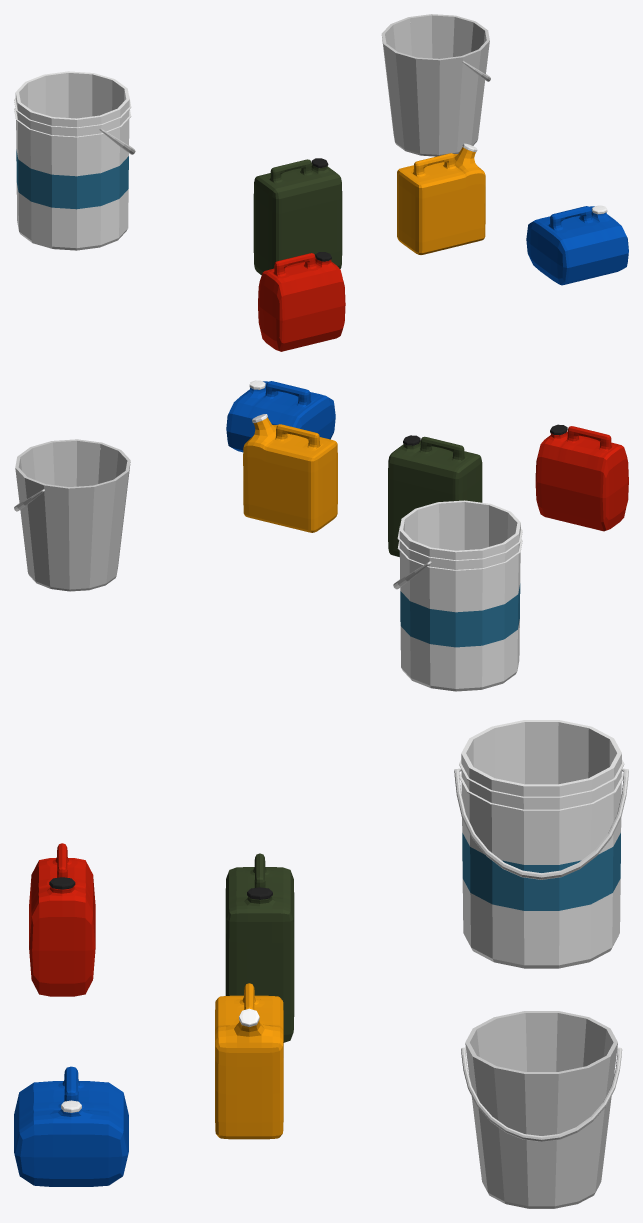
3 views of the same model, one above another, from view 1: azimuth 30°, elevation 25°; view 2: azimuth 150°, elevation 25°; view 3: azimuth 270°, elevation 25° (orthographic). The views are drawn at different scales.
Parts seen in each view (by area): view 1: plasticBucket, metalBucket, greenJerrycan, yellowJerrycan, redJerrycan, blueJerrycan; view 2: plasticBucket, metalBucket, yellowJerrycan, redJerrycan, greenJerrycan, blueJerrycan; view 3: plasticBucket, metalBucket, blueJerrycan, yellowJerrycan, greenJerrycan, redJerrycan.
Part boxes in pixels (x1,y1,x2,y2): plasticBucket: [14, 71, 135, 250]; metalBucket: [381, 14, 490, 156]; greenJerrycan: [253, 158, 342, 274]; yellowJerrycan: [397, 143, 485, 254]; redJerrycan: [258, 252, 345, 351]; blueJerrycan: [526, 205, 628, 285]; plasticBucket: [393, 500, 522, 691]; metalBucket: [14, 439, 130, 591]; yellowJerrycan: [243, 414, 337, 532]; redJerrycan: [535, 424, 628, 531]; greenJerrycan: [388, 435, 482, 556]; blueJerrycan: [226, 380, 335, 452]; plasticBucket: [454, 720, 628, 968]; metalBucket: [461, 1011, 622, 1208]; blueJerrycan: [14, 1066, 128, 1186]; yellowJerrycan: [215, 983, 283, 1139]; greenJerrycan: [225, 853, 294, 1042]; redJerrycan: [29, 843, 95, 996].
Size of the model in its own units: 199 by 55.05 by 165.
